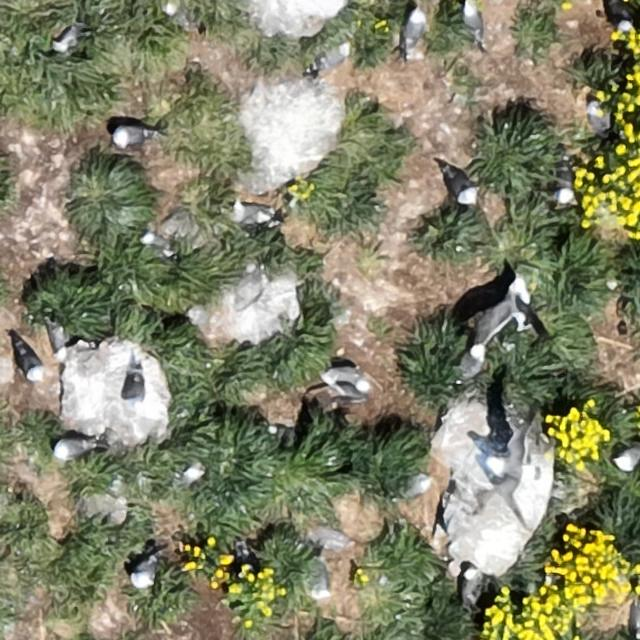F: (490, 412, 549, 522), (478, 278, 540, 342)
umineko: (444, 170, 476, 203), (325, 369, 367, 392), (18, 347, 42, 380), (318, 44, 348, 69), (404, 9, 424, 46), (608, 2, 632, 31), (132, 559, 155, 589), (459, 348, 482, 377), (556, 168, 574, 204), (114, 126, 148, 145), (55, 439, 87, 459), (235, 204, 268, 223), (614, 445, 640, 469), (54, 25, 80, 49), (465, 4, 483, 38), (144, 233, 172, 253), (404, 475, 429, 497), (462, 568, 478, 601), (124, 373, 142, 401), (51, 324, 66, 354), (179, 464, 200, 484)
